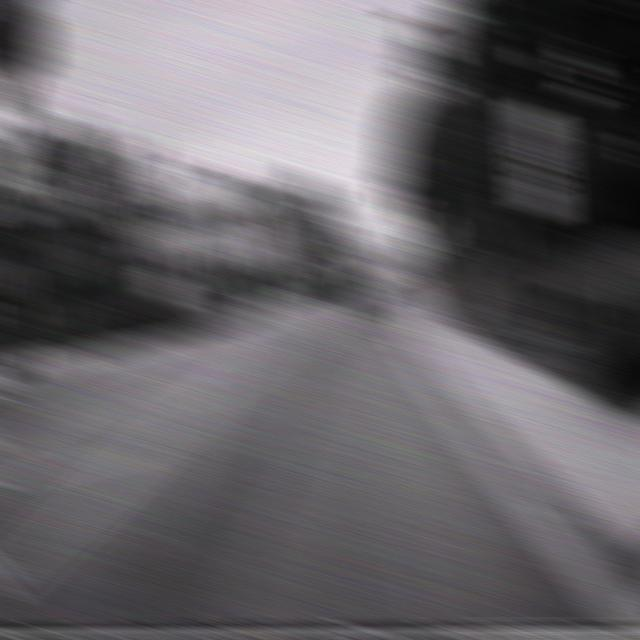speedLimit25: (510, 100, 564, 220)
